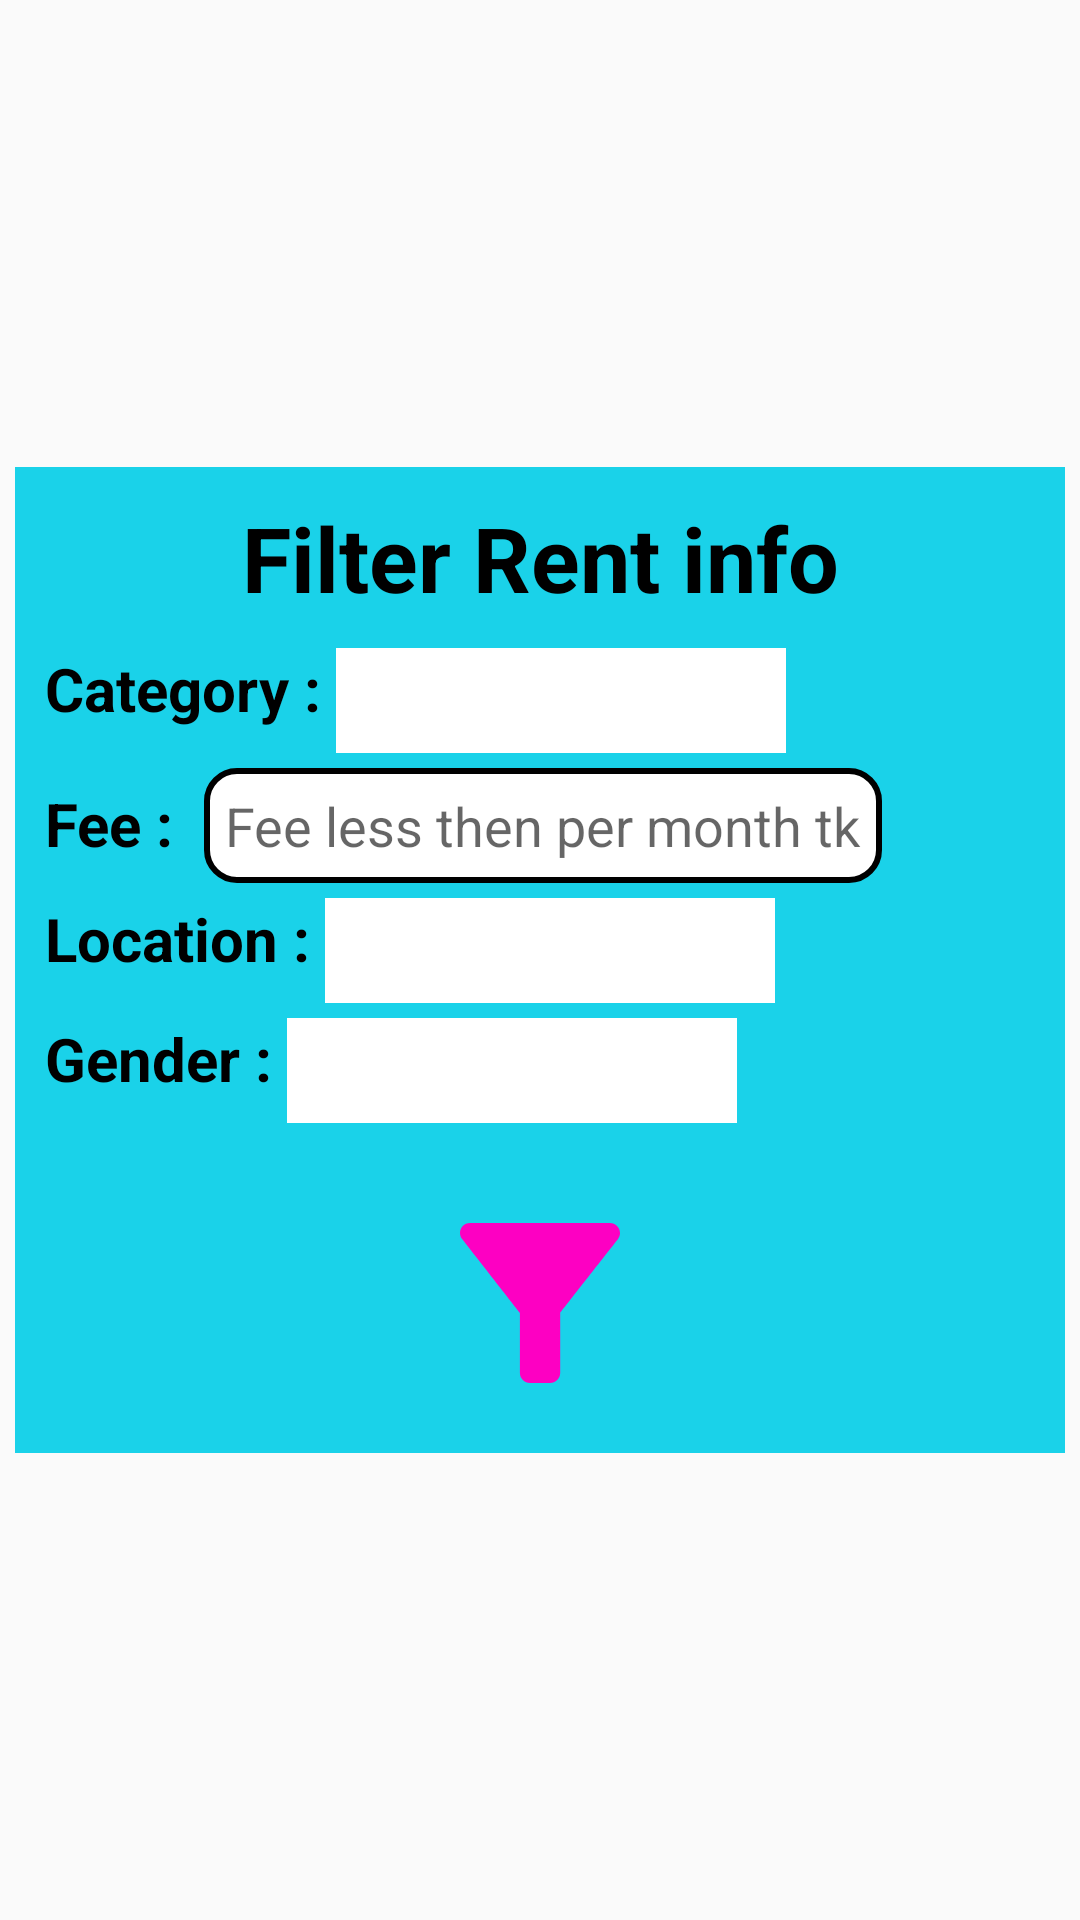

Icon bounding boxes for this 1080px×1920px phone screenshot, format rect(x1, y1, x2, y2):
filter: rect(460, 1223, 620, 1383)
